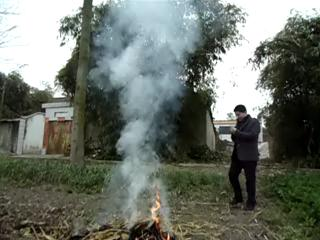yanwu: (100, 2, 203, 216)
